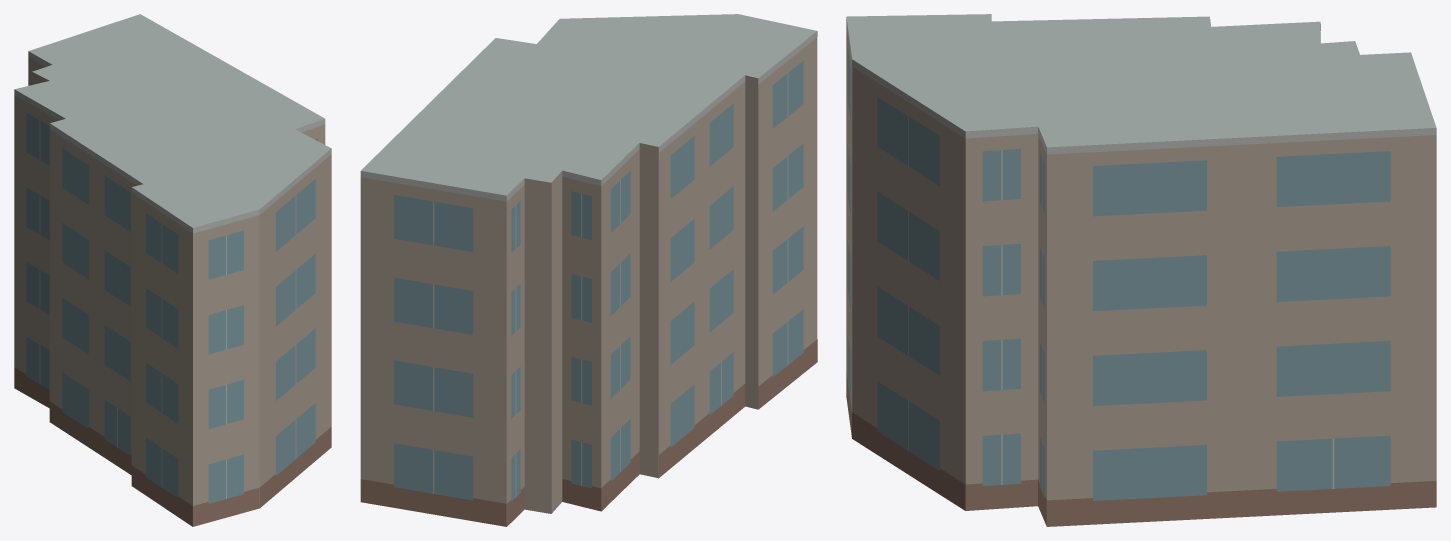
File: survey-upis-33015349.glb
3 views of the same model, side by side, from view 1: azimuth 30°, elevation 25°; view 2: azimuth 150°, elevation 25°; view 3: azimuth 270°, elevation 25° (orthographic). The views are drawn at different scales.
Parts seen in each view (by area): view 1: survey-upis-33015349.tmp; view 2: survey-upis-33015349.tmp; view 3: survey-upis-33015349.tmp.
Part boxes in pixels (x1,y1,x2,y2): survey-upis-33015349.tmp: [14, 14, 331, 526]; survey-upis-33015349.tmp: [360, 14, 817, 526]; survey-upis-33015349.tmp: [846, 14, 1436, 526].
Bounding box in the file's own units: 9.81 × 13 × 18.33.
